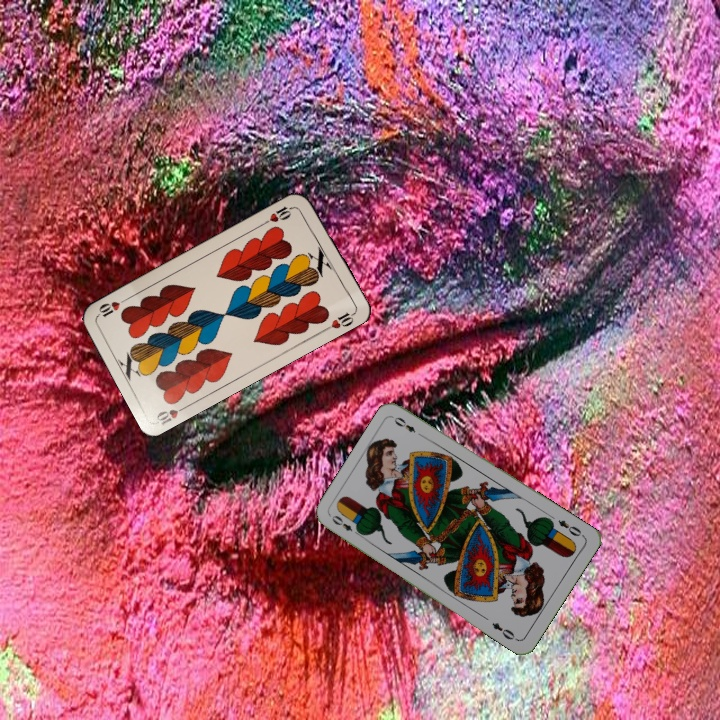EO: (327, 511, 364, 539), (554, 516, 587, 540)
H10: (152, 401, 192, 427), (260, 202, 297, 227)
